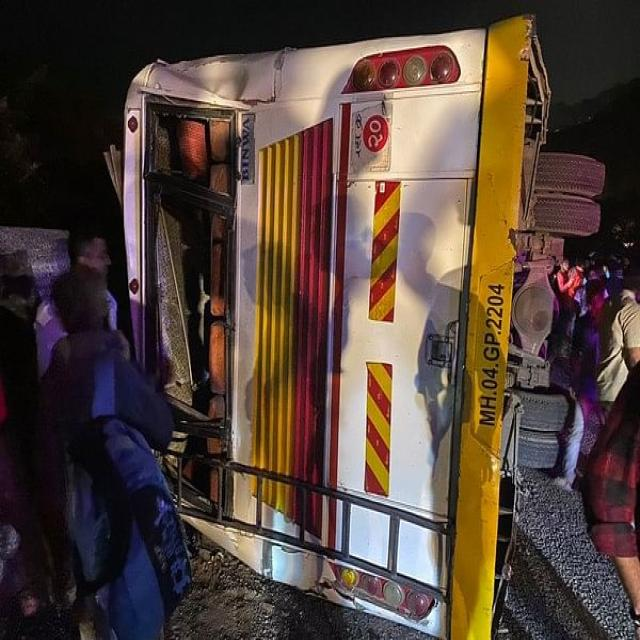accident: (121, 17, 604, 638)
